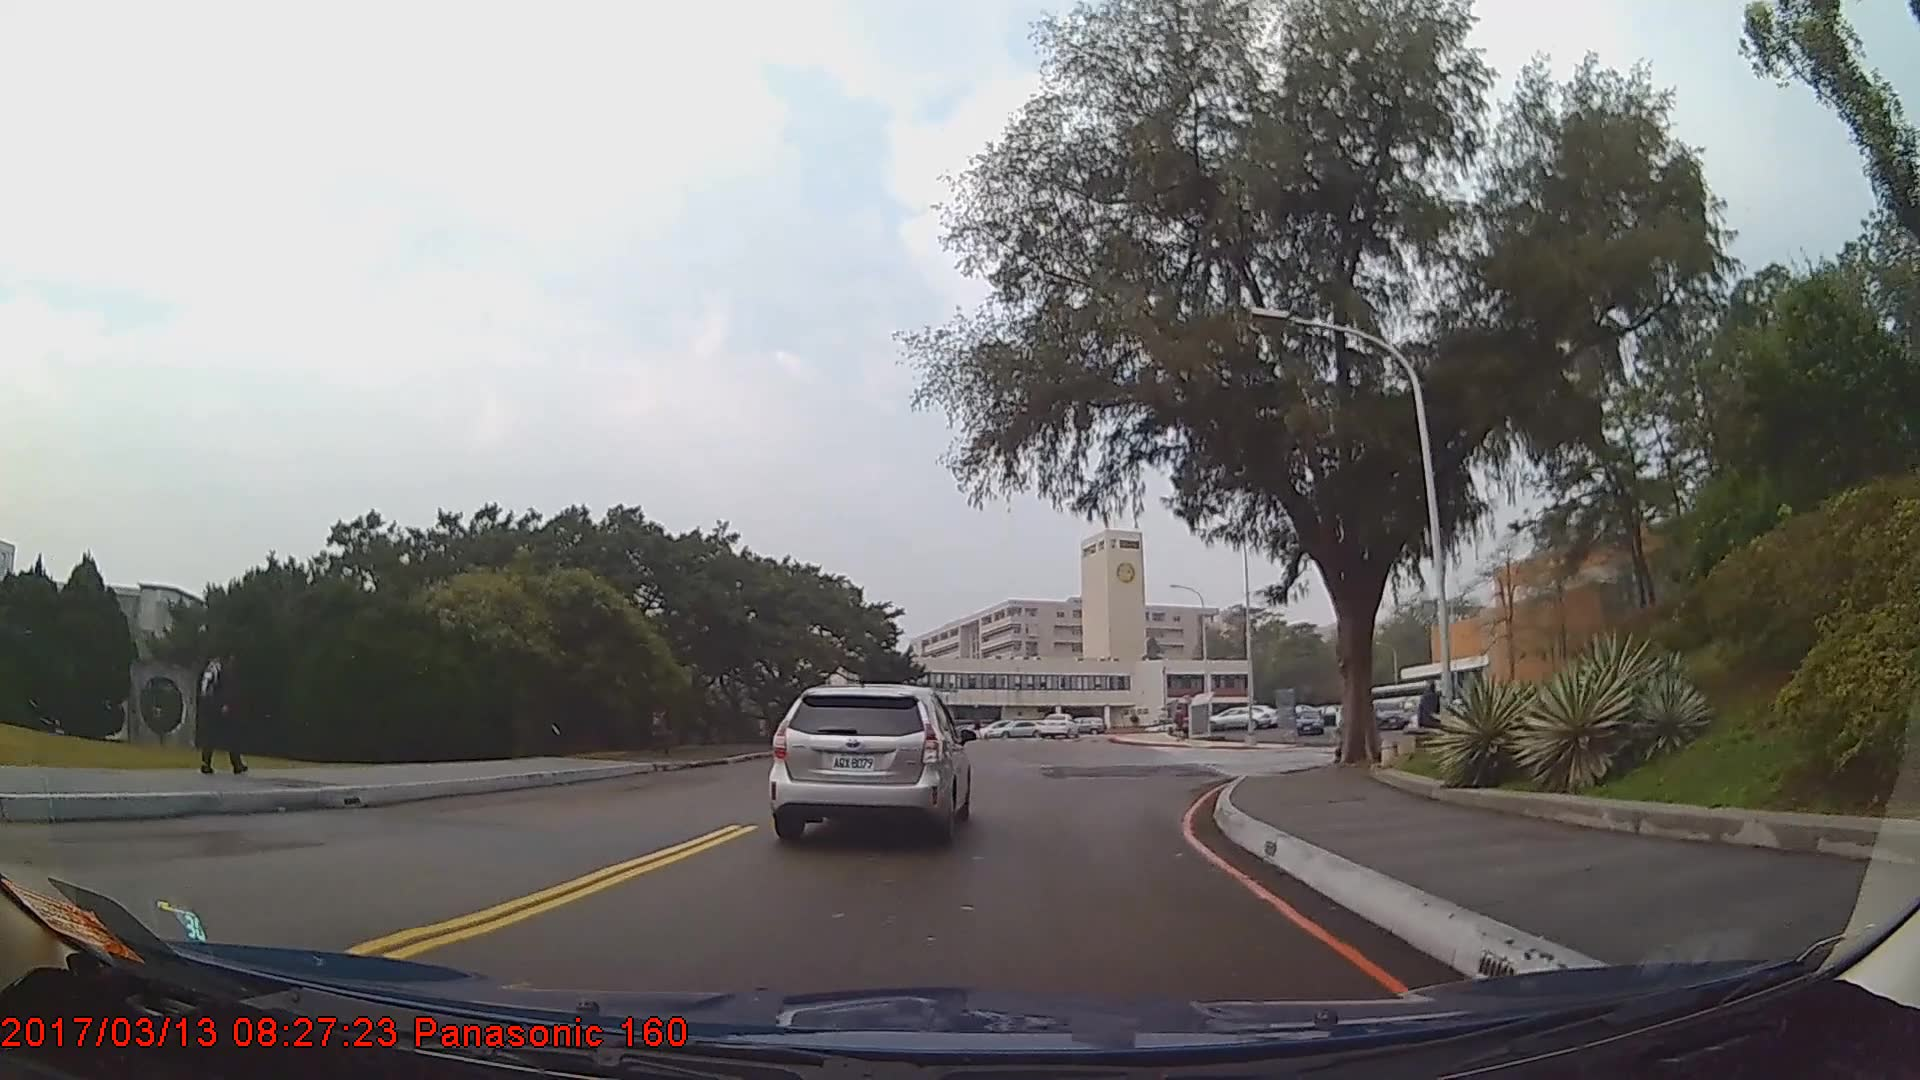pedestrian: (194, 638, 258, 773), (1414, 679, 1448, 775)
vehicle: (769, 681, 969, 843), (1207, 703, 1270, 730), (986, 715, 1049, 740), (1037, 710, 1082, 737), (1373, 699, 1407, 730), (1294, 708, 1323, 737)
